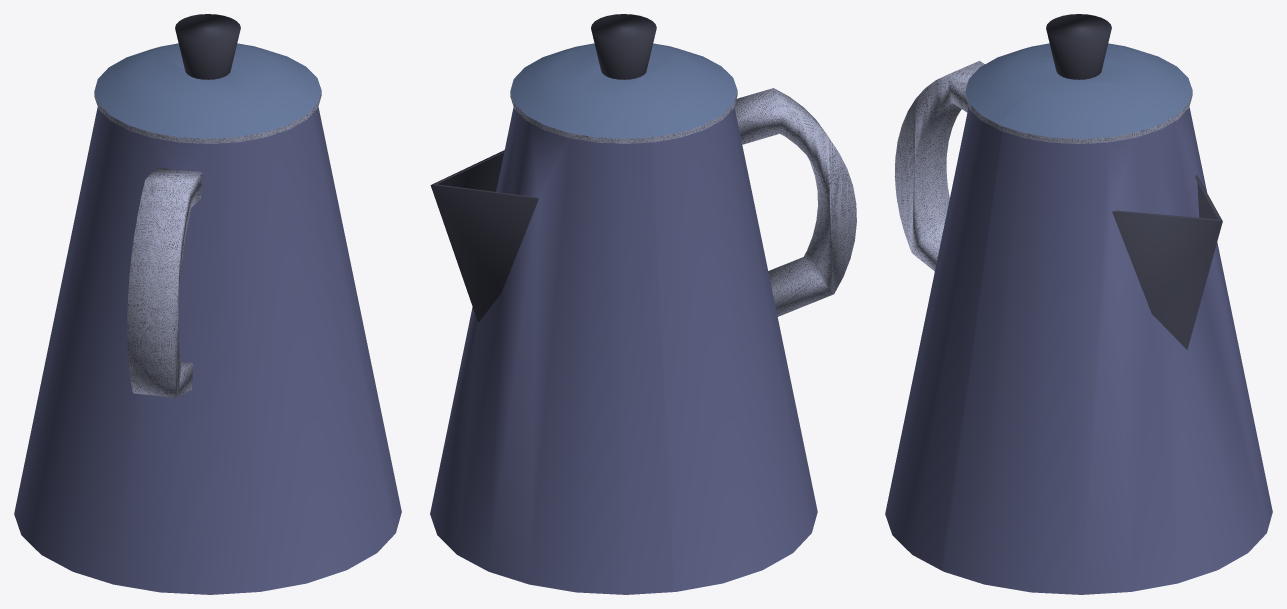
The model's file is Coffee_pot_3.fbx.
The picture shows the model from 3 angles, left to right: view 1: azimuth 30°, elevation 25°; view 2: azimuth 150°, elevation 25°; view 3: azimuth 270°, elevation 25°; orthographic projection.
Visible parts, largest first — view 1: Model; view 2: Model; view 3: Model.
Boxes of the visible parts, left/top/right/bottom form: Model: left=14, top=14, right=401, bottom=594; Model: left=430, top=14, right=856, bottom=594; Model: left=885, top=14, right=1272, bottom=594.
Bounding box in the file's own units: 0.1722 × 0.2377 × 0.1722.
